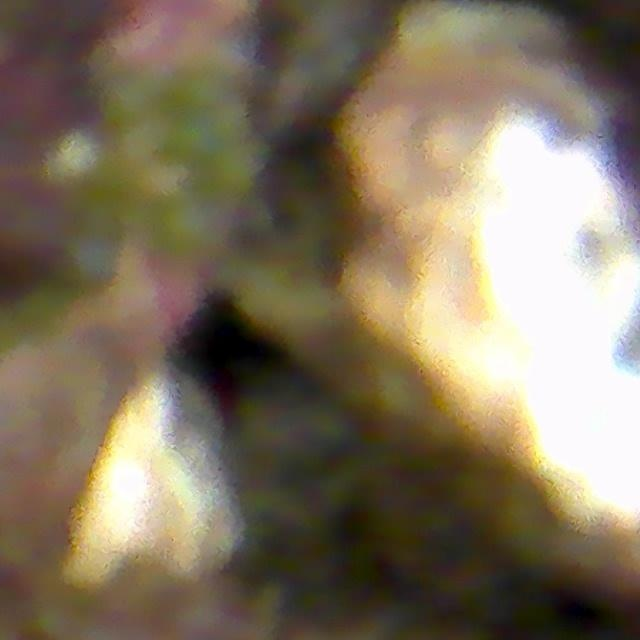SeaGrape: (0, 49, 69, 157), (0, 230, 73, 300)
